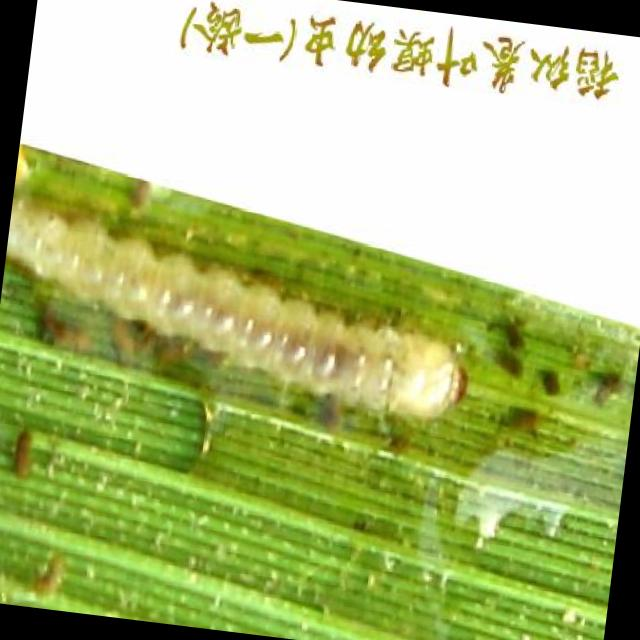leaf-folder: (0, 162, 487, 461)
